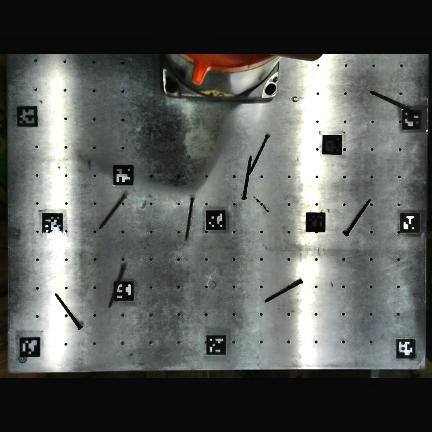golden_screw: (55, 293, 82, 328), (100, 193, 126, 227), (265, 278, 303, 301), (109, 266, 125, 306), (242, 156, 251, 198), (186, 197, 194, 238), (258, 135, 270, 152), (344, 228, 350, 235), (400, 103, 407, 107)
marker: (17, 107, 38, 128), (400, 213, 420, 234), (42, 214, 62, 234), (113, 166, 133, 186), (114, 282, 134, 302), (206, 337, 226, 357), (403, 111, 422, 132), (206, 210, 225, 231), (20, 338, 40, 357), (396, 339, 415, 359), (306, 213, 325, 232), (323, 136, 342, 154)
